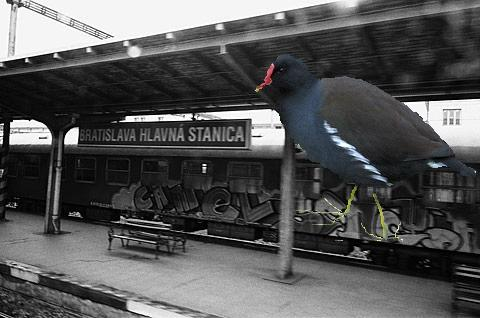tampered: (256, 56, 476, 241)
